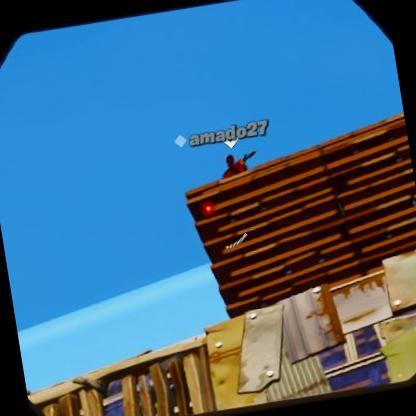person: (222, 148, 240, 174)
